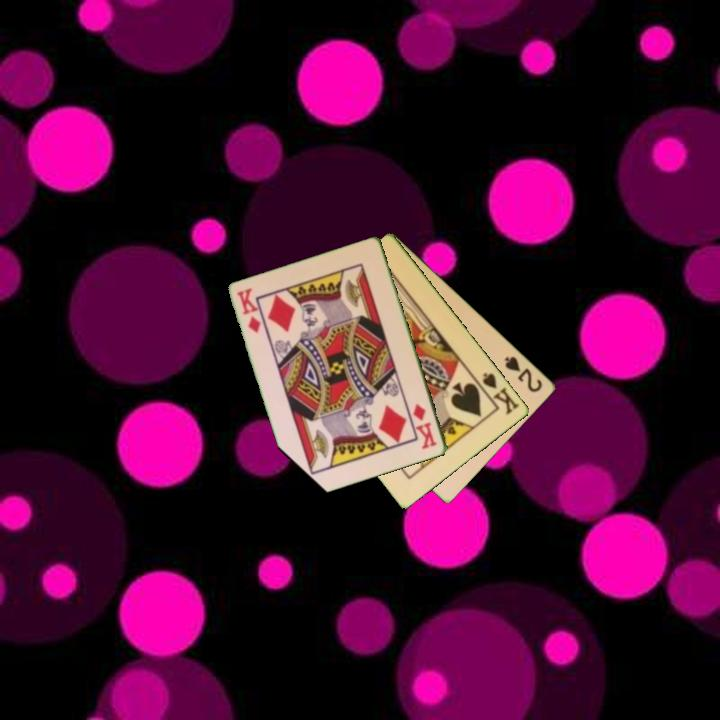2s: (501, 353, 546, 395)
Kd: (409, 400, 440, 452), (234, 285, 264, 336)
Ks: (473, 369, 522, 418)
